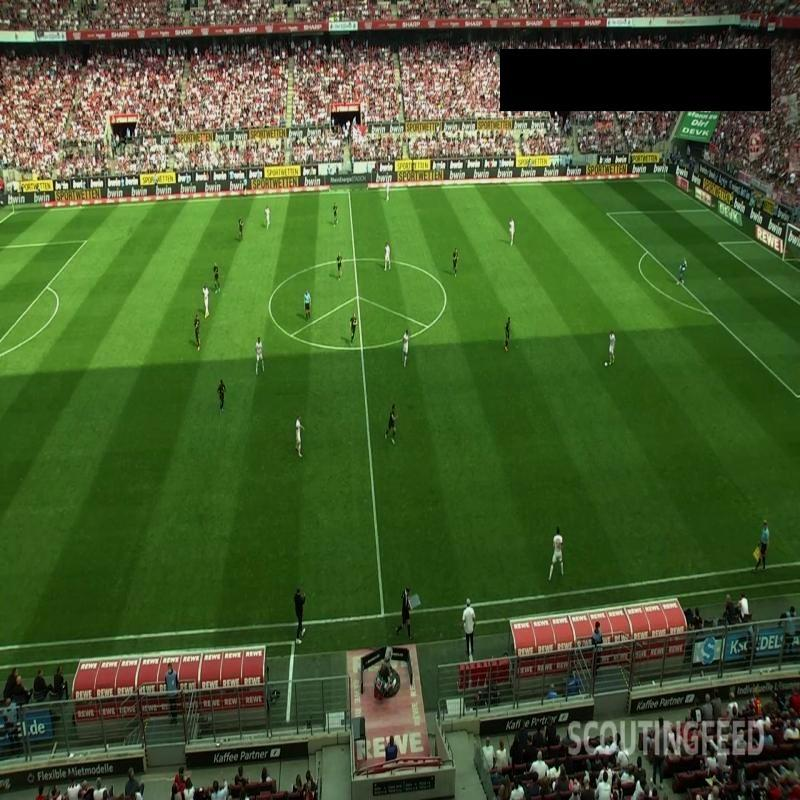1: (7, 206, 21, 220), (657, 174, 671, 187)
10: (40, 281, 54, 295), (640, 243, 654, 256)
11: (702, 304, 716, 318)
12: (793, 391, 800, 401)
13: (342, 182, 356, 196)
14: (347, 251, 361, 264)
15: (354, 340, 368, 353)
16: (374, 604, 392, 624)
2: (702, 203, 716, 216)
3: (748, 234, 762, 248)
7: (712, 236, 726, 249)
9: (77, 236, 95, 248), (600, 206, 614, 220)
c: (438, 290, 452, 304), (263, 297, 276, 312)
